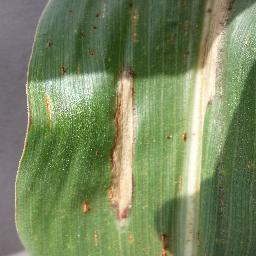Corn_Blight: (182, 0, 236, 110), (106, 60, 138, 220), (214, 149, 230, 235), (126, 0, 143, 45), (187, 221, 205, 253), (156, 232, 175, 256), (165, 131, 190, 143), (78, 26, 99, 38), (80, 197, 93, 214), (125, 229, 138, 244), (91, 229, 103, 245), (60, 64, 70, 77), (44, 36, 53, 50), (94, 9, 106, 19), (83, 48, 99, 55), (65, 5, 73, 16)
